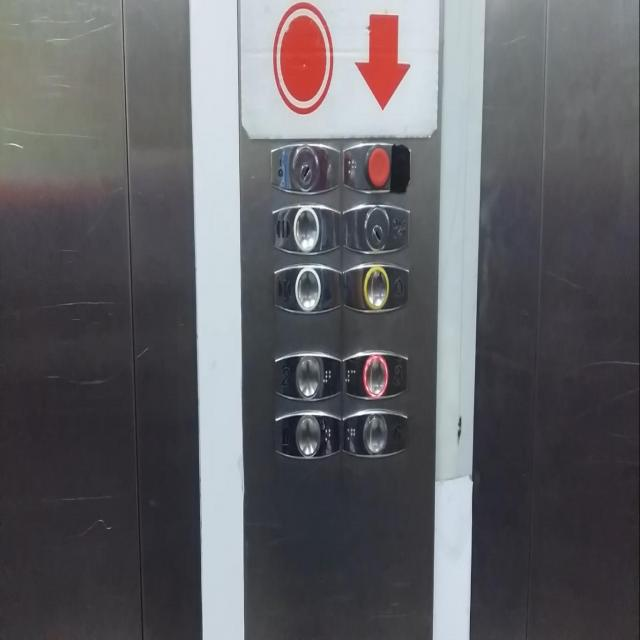0: (273, 408, 341, 461)
2: (273, 348, 341, 402)
3: (342, 348, 408, 402)
G: (342, 407, 408, 459)
alarm: (342, 261, 410, 315)
blur: (341, 138, 411, 196)
close: (273, 261, 342, 316)
key: (269, 140, 340, 196)
keyhole: (342, 202, 410, 256)
open: (270, 202, 341, 256)
